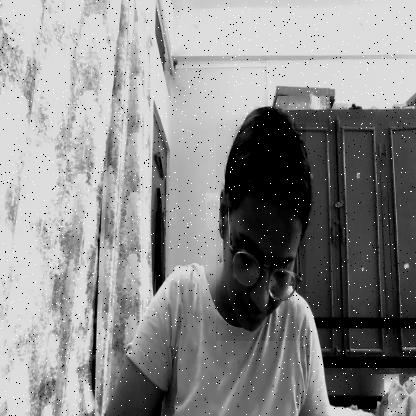Distracted: (216, 124, 306, 341)
